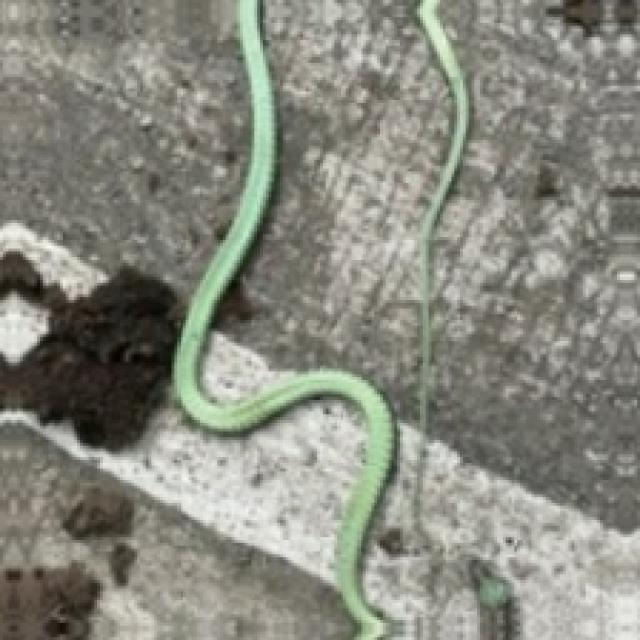philippine bronzeback treesnake: (171, 0, 394, 637), (174, 0, 391, 637), (417, 0, 466, 429), (417, 0, 466, 360)
